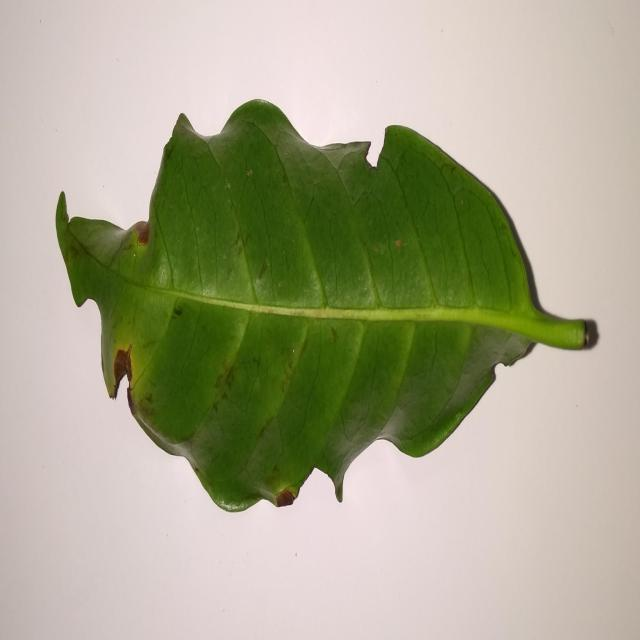Enfermedad-Antracnosis: (54, 99, 600, 516)
